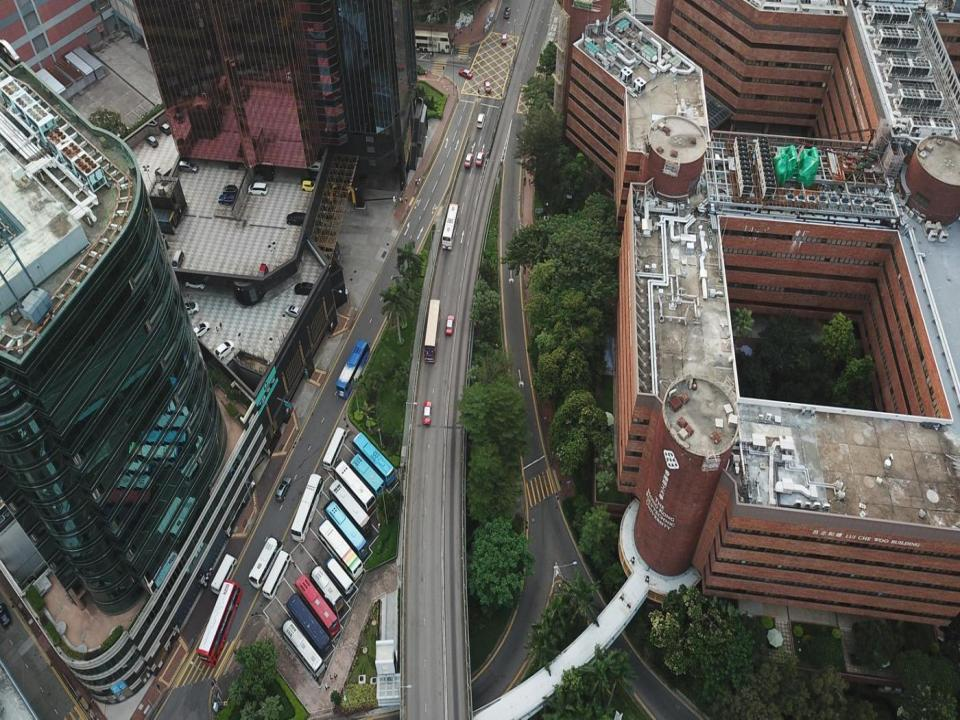bus: (197, 579, 242, 667), (315, 516, 365, 580), (292, 573, 340, 637), (321, 495, 368, 560), (283, 592, 331, 655), (280, 615, 326, 677), (331, 458, 377, 515), (328, 480, 372, 539), (352, 431, 395, 487), (290, 473, 324, 543), (335, 339, 371, 399), (248, 534, 283, 590), (308, 564, 343, 614), (349, 452, 385, 500), (262, 550, 292, 599), (403, 29, 451, 54), (324, 557, 354, 596), (322, 426, 348, 470), (210, 554, 236, 595), (424, 298, 440, 364), (442, 203, 460, 249)
car: (215, 339, 234, 361), (192, 321, 210, 338), (185, 276, 206, 290), (254, 161, 274, 175), (303, 162, 324, 174), (284, 304, 302, 318), (180, 301, 199, 314), (0, 604, 10, 628), (422, 401, 432, 424), (301, 180, 318, 193), (155, 167, 169, 182), (222, 184, 238, 196), (444, 316, 454, 334), (458, 68, 473, 80), (146, 134, 158, 148), (464, 154, 473, 168), (475, 152, 484, 166), (484, 80, 491, 93), (501, 32, 508, 44), (503, 8, 510, 18)
van: (275, 475, 291, 501), (168, 248, 184, 272), (286, 212, 308, 227), (294, 282, 315, 295), (179, 160, 199, 173), (248, 182, 268, 195), (218, 192, 236, 206), (159, 122, 172, 136), (476, 112, 484, 129)
